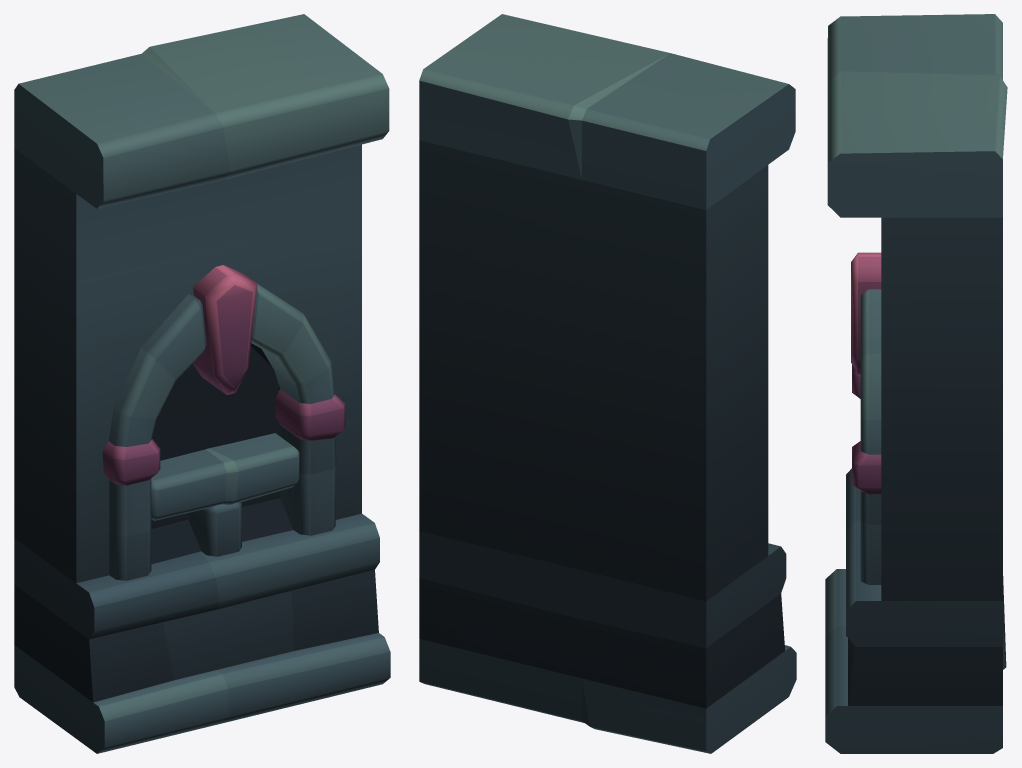
Rendered from wall_element_tileable_deco2_2meters.fbx.
3 renders of one model, left to right at view 1: azimuth 30°, elevation 25°; view 2: azimuth 150°, elevation 25°; view 3: azimuth 270°, elevation 25°, orthographic. The views are drawn at different scales.
Parts seen in each view (by area): view 1: wall_element_tileable_deco2_2meters; view 2: wall_element_tileable_deco2_2meters; view 3: wall_element_tileable_deco2_2meters.
Part boxes in pixels (x1=…): wall_element_tileable_deco2_2meters: x1=14, y1=14, x2=390, y2=753; wall_element_tileable_deco2_2meters: x1=419, y1=14, x2=796, y2=753; wall_element_tileable_deco2_2meters: x1=825, y1=14, x2=1007, y2=753.
Size of the model in its own units: 200 by 413 by 112.
